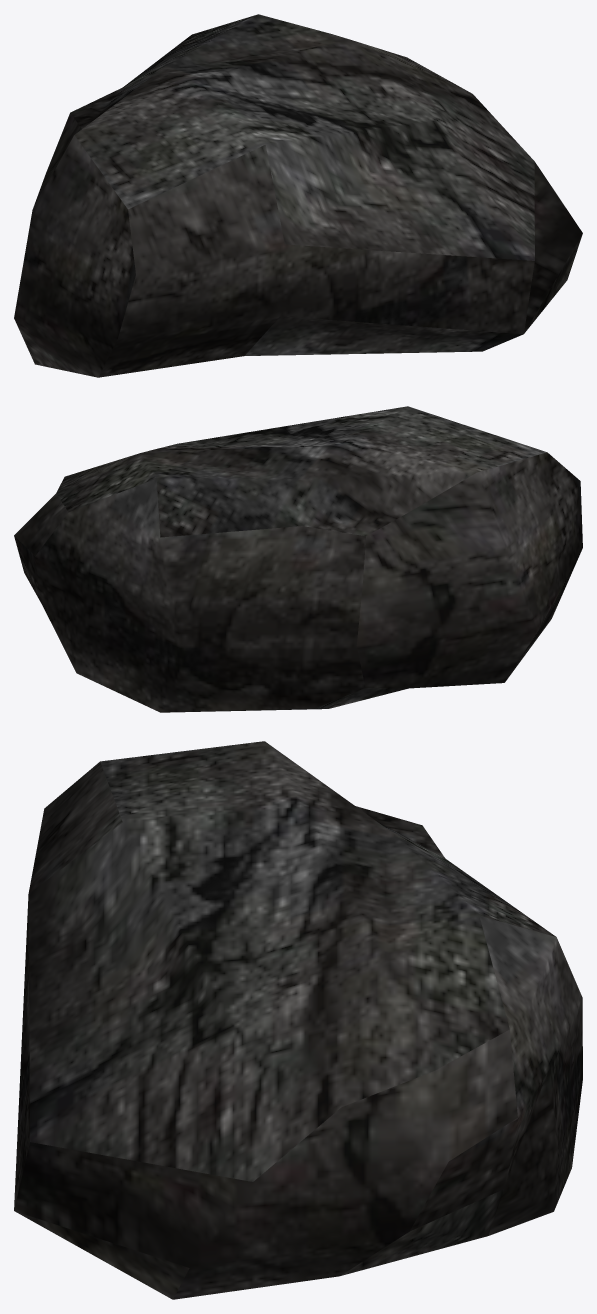
Rendered from Rock 6.glb.
The picture shows the model from 3 angles, top to bottom: view 1: azimuth 30°, elevation 25°; view 2: azimuth 150°, elevation 25°; view 3: azimuth 270°, elevation 25°; orthographic projection. The views are drawn at different scales.
Parts seen in each view (by area): view 1: rock_6_low; view 2: rock_6_low; view 3: rock_6_low.
Boxes of the visible parts, x1,y1,x2,y2 form: rock_6_low: [14, 14, 582, 377]; rock_6_low: [14, 406, 582, 712]; rock_6_low: [14, 741, 582, 1299].
Size of the model in its own units: 0.135 by 0.0617 by 0.0993.
Materials: 1 (1 with a texture image).
